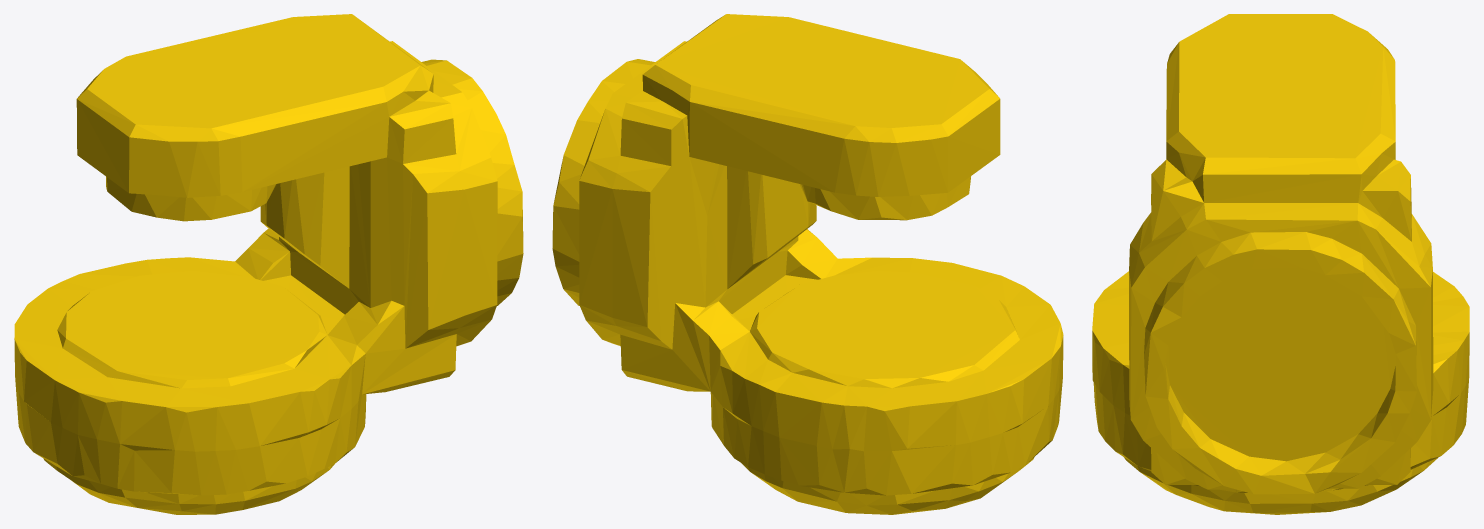
The picture shows the model from 3 angles, left to right: view 1: azimuth 30°, elevation 25°; view 2: azimuth 150°, elevation 25°; view 3: azimuth 270°, elevation 25°; orthographic projection. The views are drawn at different scales.
Visible parts, largest first — view 1: Node_0x7f98e9894f00; view 2: Node_0x7f98e9894f00; view 3: Node_0x7f98e9894f00.
Part boxes in pixels (x1,y1,x2,y2): Node_0x7f98e9894f00: (14,14,523,514); Node_0x7f98e9894f00: (552,14,1063,514); Node_0x7f98e9894f00: (1092,14,1469,514).
Bounding box in the file's own units: 0.3256 × 0.2748 × 0.2345.
